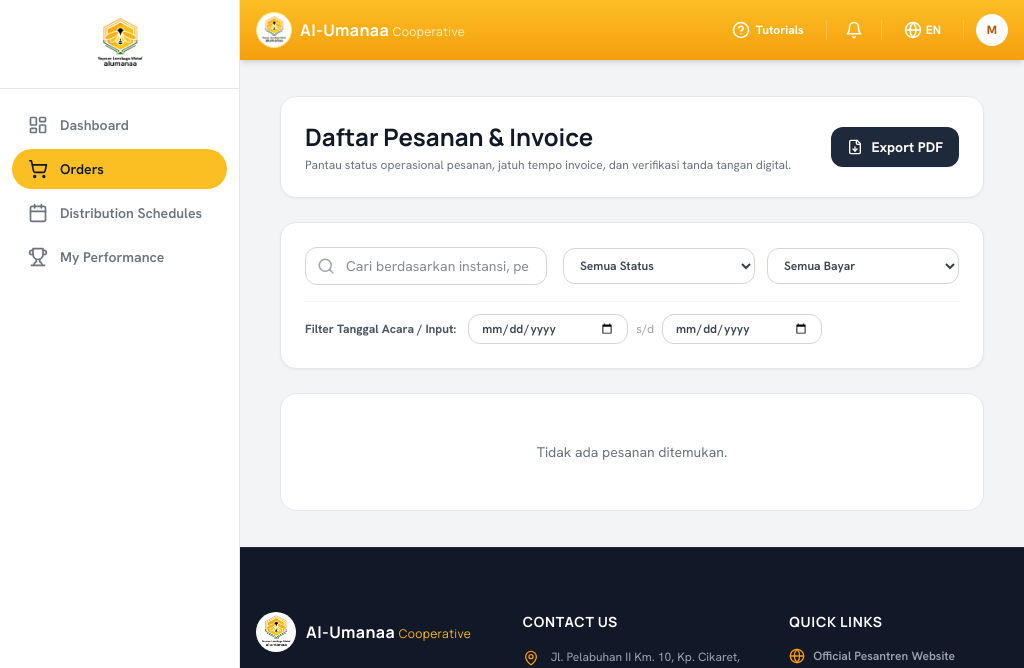
Test: Authentication UI Features › Logout Confirmation Modal Flow › should display confirmation modal when sign out is clicked in Sidebar
Click the button "M": (992, 30) [976, 14, 1008, 46]
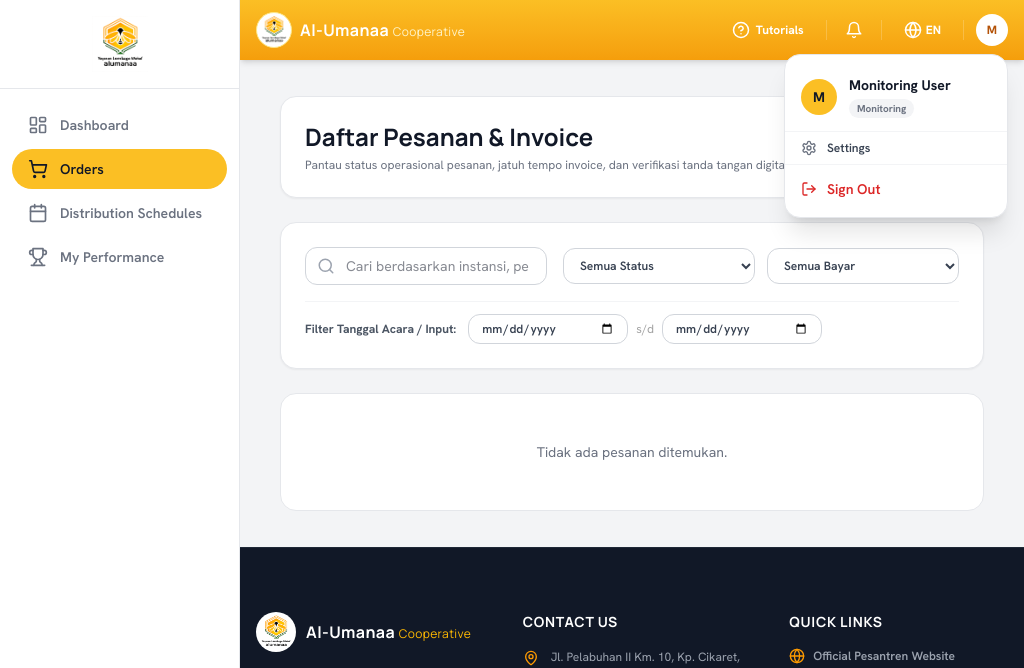
expect the text "Konfirmasi Keluar" is not shown: met
expect the button "Sign Out" is shown: met
Note: Click sign out
Click the button "Sign Out": (896, 189) [785, 169, 1007, 209]
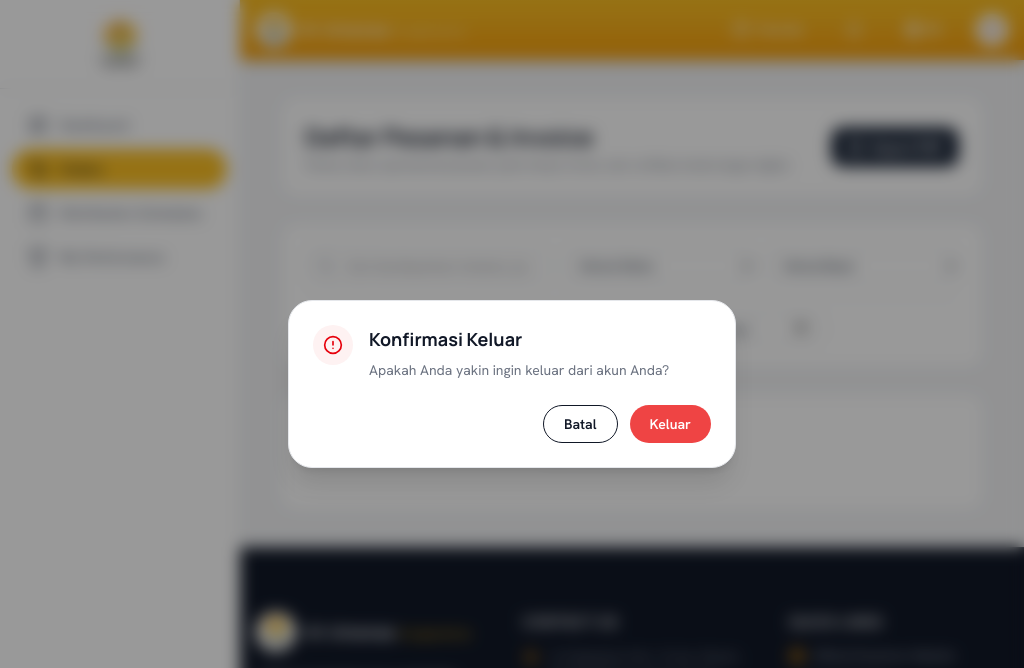
expect the heading "Konfirmasi Keluar" is shown: met, box [369, 327, 522, 351]
expect the text "Apakah Anda yakin ingin keluar dari akun Anda?" is shown: met, box [369, 359, 711, 381]
Note: Find Cancel ("Batal") button
Click the button "Batal": (580, 424) [543, 405, 618, 443]
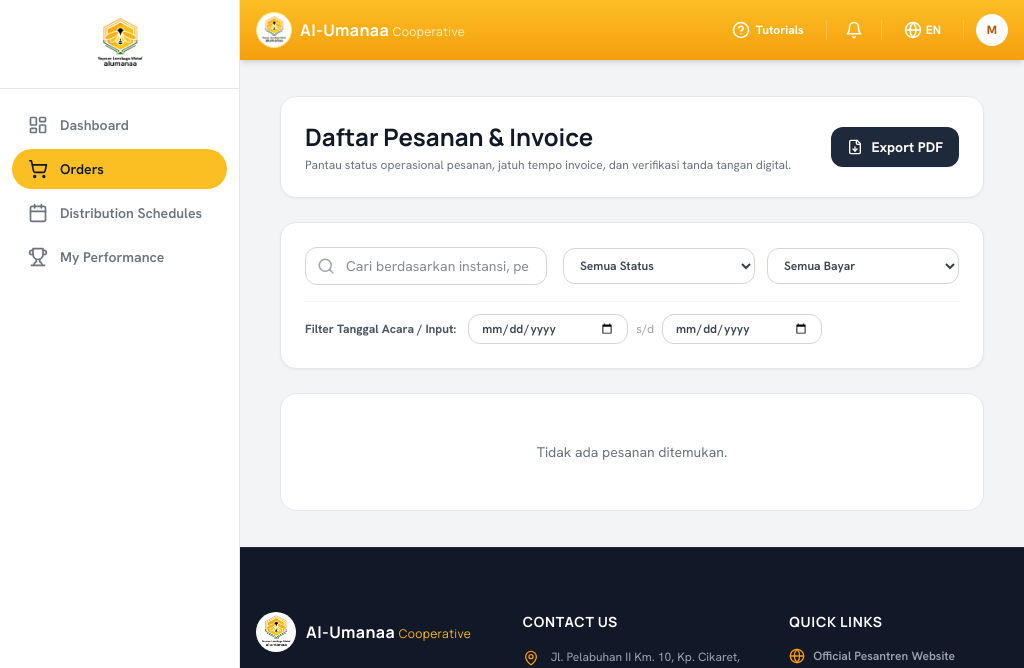
expect the heading "Konfirmasi Keluar" is gone: met
Note: Open dropdown and click Sign out again to open modal again
Click the button "M": (992, 30) [976, 14, 1008, 46]
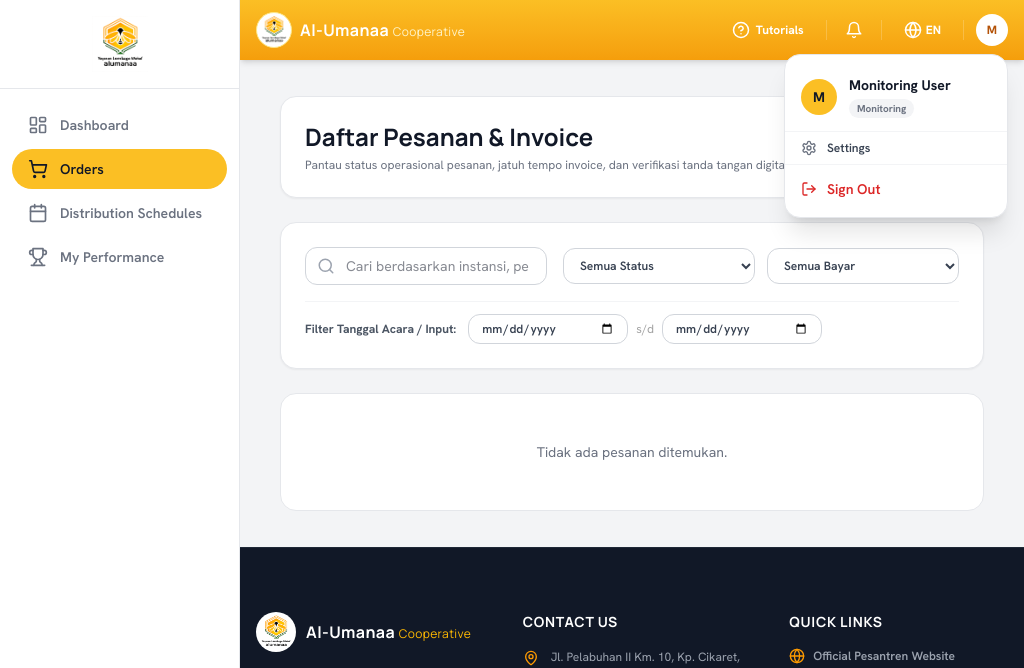
Click the button "Sign Out": (896, 189) [785, 169, 1007, 209]
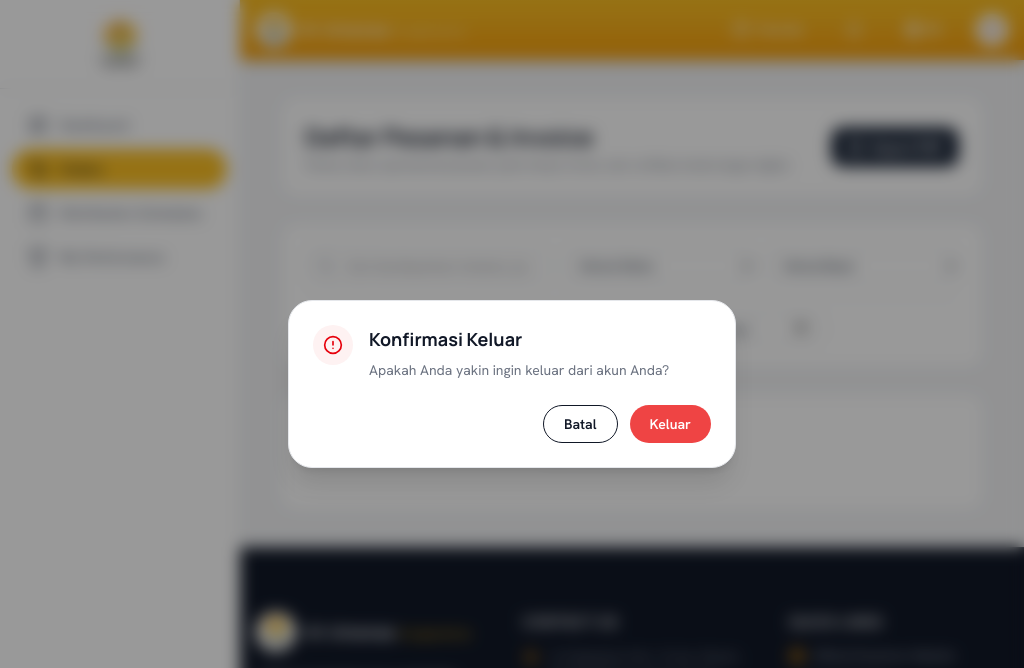
expect the heading "Konfirmasi Keluar" is shown: met, box [369, 327, 522, 351]
Note: Find Confirm ("Keluar") button
Click the button "Keluar": (670, 424) [630, 405, 711, 443]
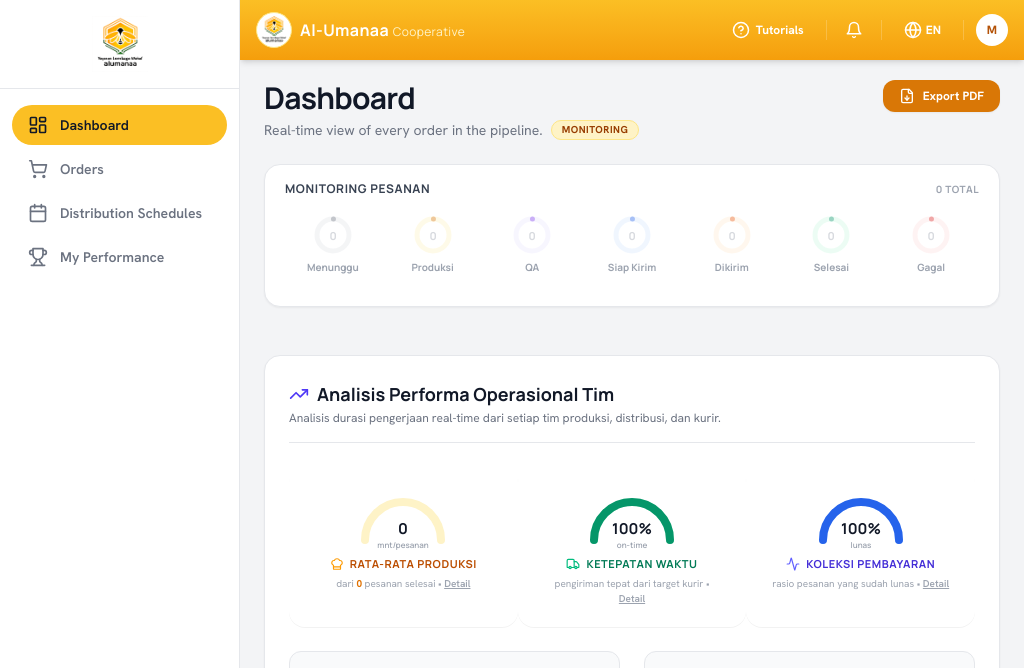
expect the heading "Konfirmasi Keluar" is gone: met
